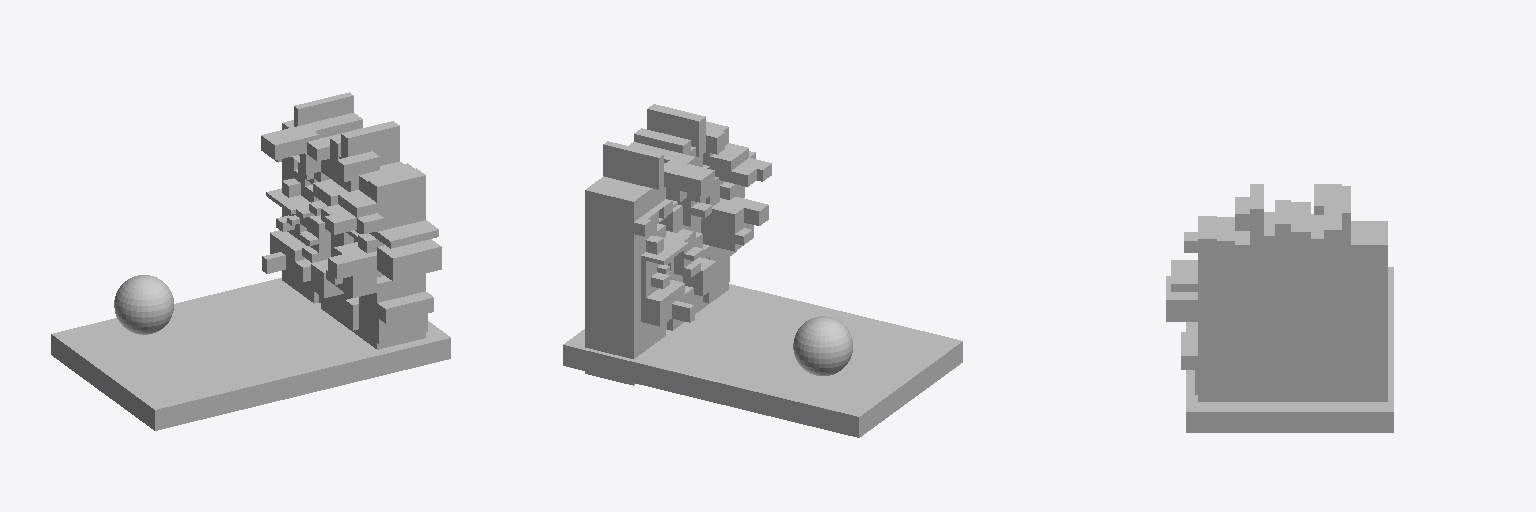
Rendered from detailedWall.obj.
3 views of the same model, side by side, from view 1: azimuth 30°, elevation 25°; view 2: azimuth 150°, elevation 25°; view 3: azimuth 270°, elevation 25° (orthographic).
Visible parts, largest first — view 1: Box002, Box001, Sphere001; view 2: Box002, Box001, Sphere001; view 3: Box002, Box001.
Part boxes in pixels (bbox=[...]): Box002: bbox=[261, 92, 441, 349]; Box001: bbox=[51, 278, 450, 430]; Sphere001: bbox=[114, 275, 173, 334]; Box002: bbox=[585, 104, 771, 385]; Box001: bbox=[563, 284, 962, 437]; Sphere001: bbox=[793, 316, 852, 375]; Box002: bbox=[1166, 184, 1387, 401]; Box001: bbox=[1186, 267, 1393, 432].
Size of the model in its own units: 26.89 by 19.01 by 17.85.